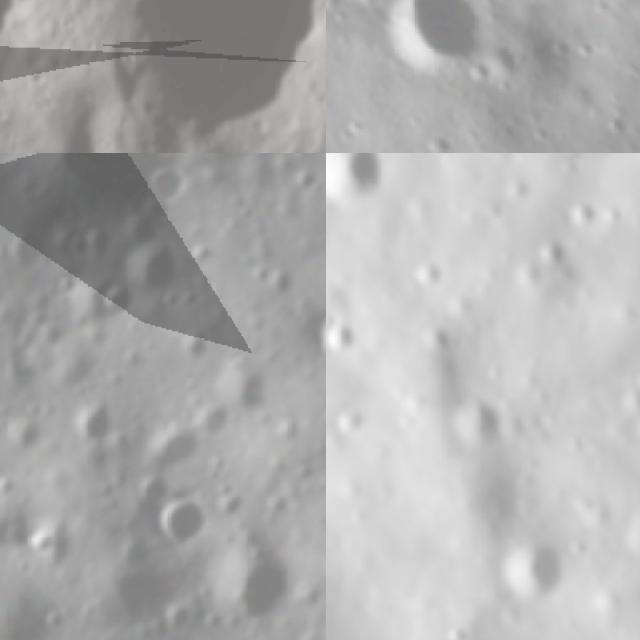crater: (359, 0, 519, 120), (487, 517, 587, 612), (209, 546, 294, 635), (450, 386, 522, 462), (326, 153, 406, 221), (326, 306, 390, 380), (116, 238, 184, 306), (139, 421, 210, 482), (212, 362, 277, 421), (150, 498, 214, 554), (65, 402, 122, 450), (532, 236, 583, 286), (0, 226, 48, 279), (146, 160, 195, 210), (0, 417, 50, 464), (87, 283, 136, 330), (189, 153, 266, 176), (307, 301, 326, 375), (25, 524, 61, 563)
